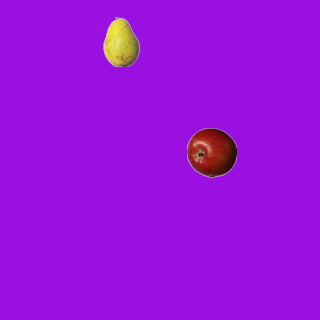Apple Braeburn: (186, 127, 236, 177)
Pear Monster: (96, 16, 146, 66)
